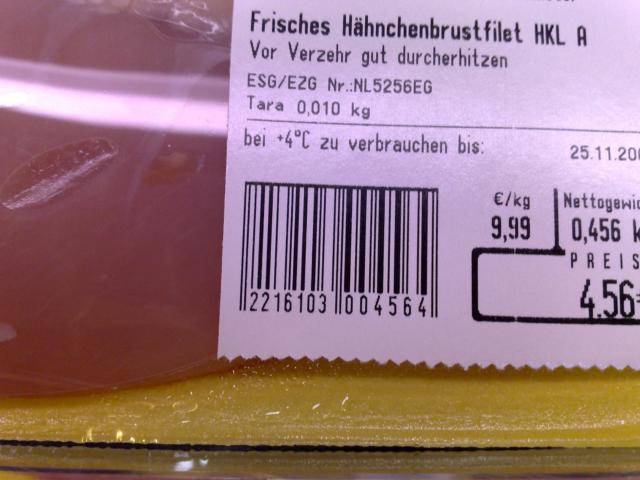Barkod: (238, 182, 442, 298)
